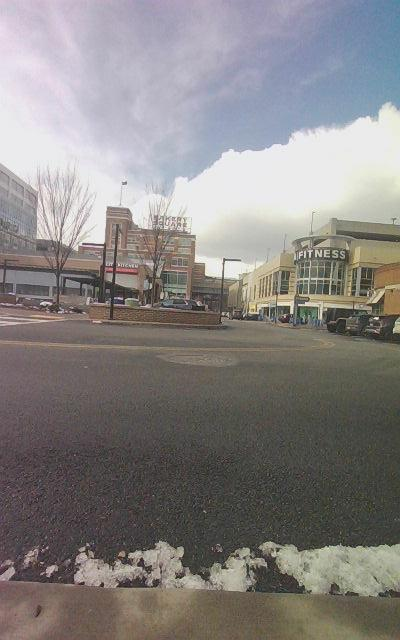curb: (0, 582, 399, 639)
road: (0, 310, 399, 596)
